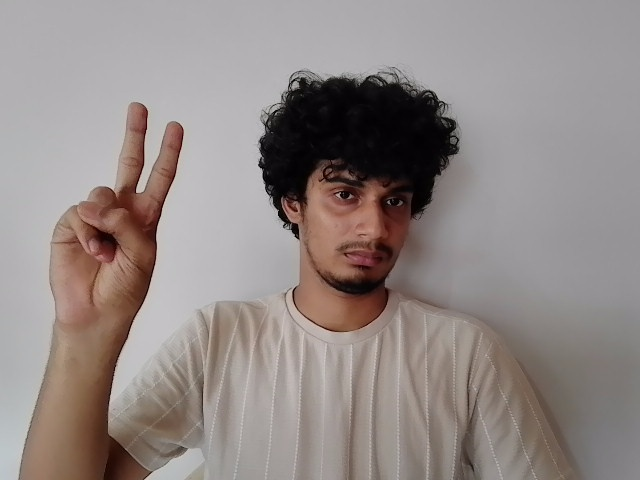travel: (34, 99, 194, 337)
